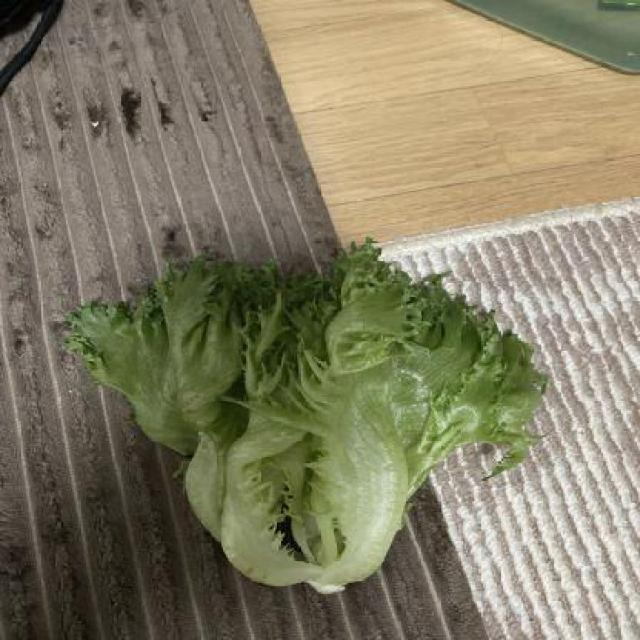Lettuce: (51, 241, 552, 590)
